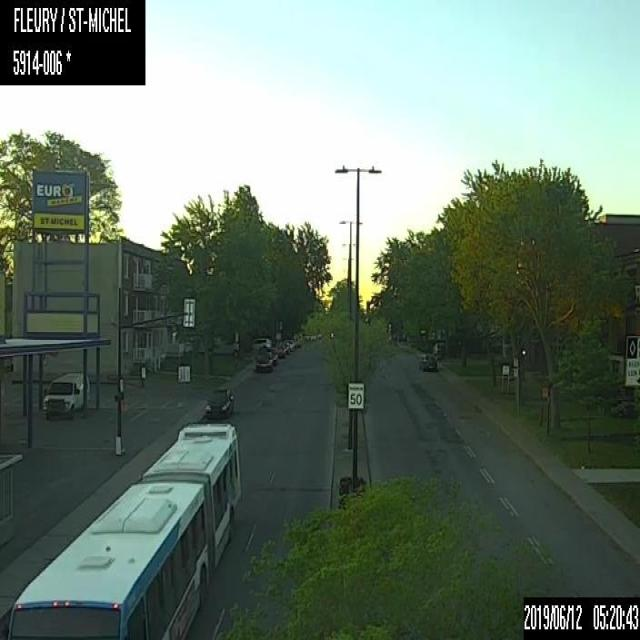bus: (4, 418, 242, 638)
vehicle: (41, 369, 89, 418), (202, 383, 234, 417), (252, 350, 272, 373), (418, 351, 438, 372), (251, 336, 271, 350), (274, 342, 285, 358)
